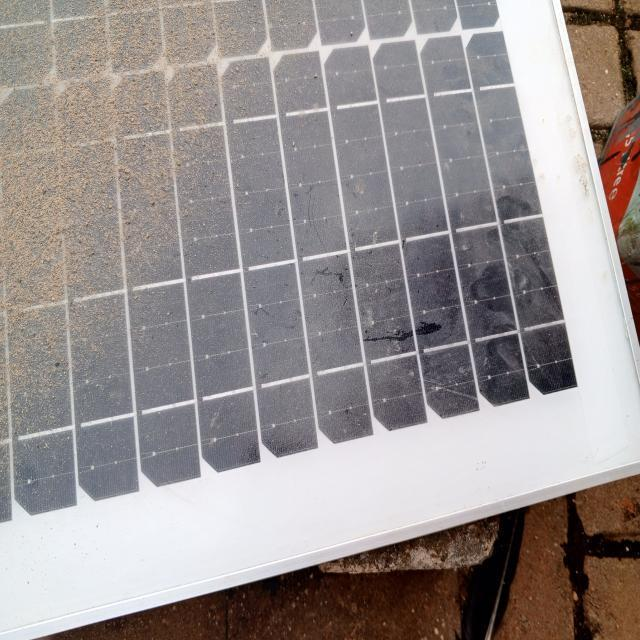Anomaly Solar Panel: (1, 0, 558, 518)
Surface Contaminant: (7, 1, 362, 446)
